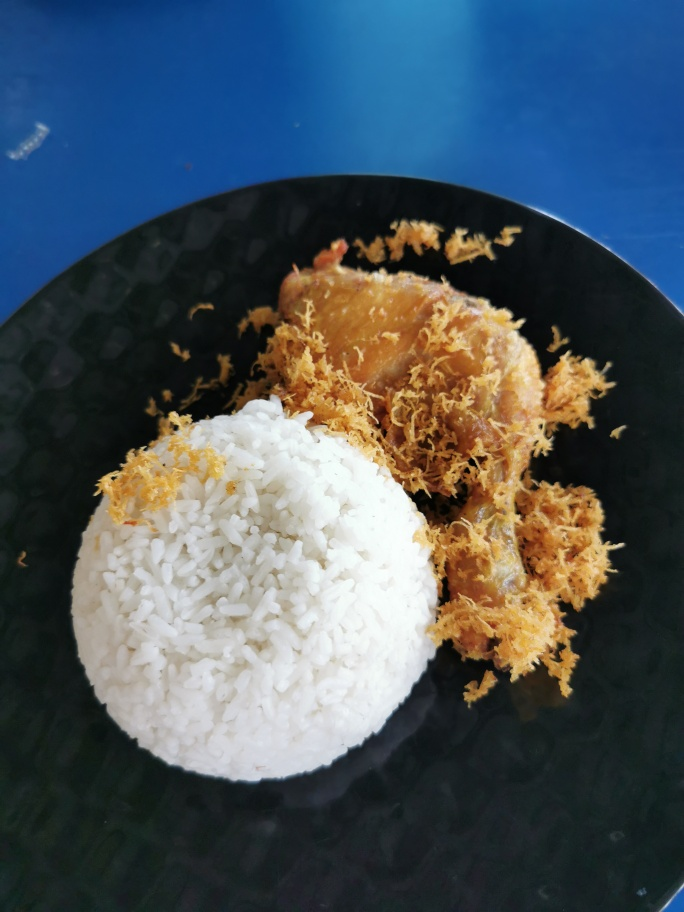ayam goreng: (263, 248, 626, 681)
nasi putih: (94, 384, 441, 783)
